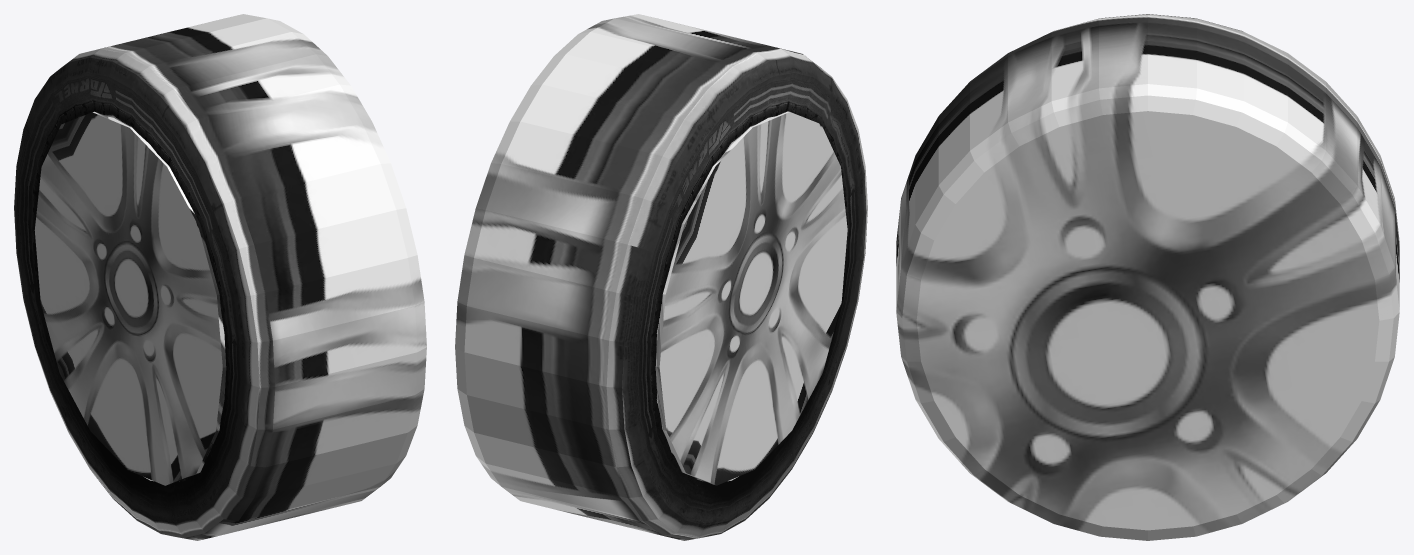
The model's file is llanta_con_rin.obj.
3 views of the same model, side by side, from view 1: azimuth 30°, elevation 25°; view 2: azimuth 150°, elevation 25°; view 3: azimuth 270°, elevation 25° (orthographic).
Parts seen in each view (by area): view 1: s15-wheel.Bk.R, Cube; view 2: s15-wheel.Bk.R, Cube; view 3: s15-wheel.Bk.R.
Boxes of the visible parts, x1,y1,x2,y2 form: s15-wheel.Bk.R: [14, 14, 426, 540]; Cube: [34, 111, 226, 485]; s15-wheel.Bk.R: [455, 14, 867, 540]; Cube: [655, 111, 847, 485]; s15-wheel.Bk.R: [896, 14, 1399, 540].
Size of the model in its own units: 0.1831 by 0.4397 by 0.4397.
